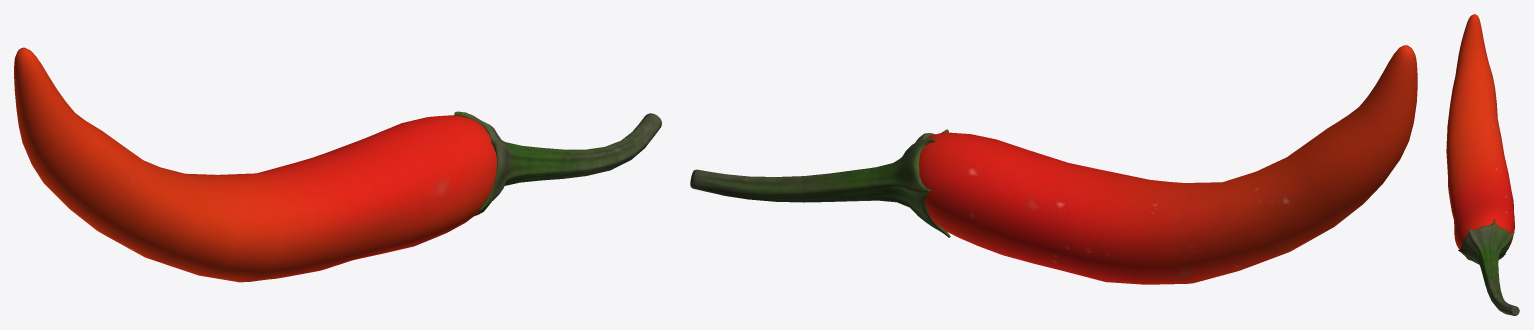
File: RedPepperDown.fbx
The picture shows the model from 3 angles, left to right: view 1: azimuth 30°, elevation 25°; view 2: azimuth 150°, elevation 25°; view 3: azimuth 270°, elevation 25°; orthographic projection. The views are drawn at different scales.
Visible parts, largest first — view 1: Cylinder.019; view 2: Cylinder.019; view 3: Cylinder.019.
Boxes of the visible parts, bbox=[...] form: Cylinder.019: bbox=[14, 47, 661, 282]; Cylinder.019: bbox=[690, 45, 1417, 284]; Cylinder.019: bbox=[1446, 14, 1519, 315].
Bounding box in the file's own units: 156 × 64.07 × 28.91.
2 materials, 2 textured.
